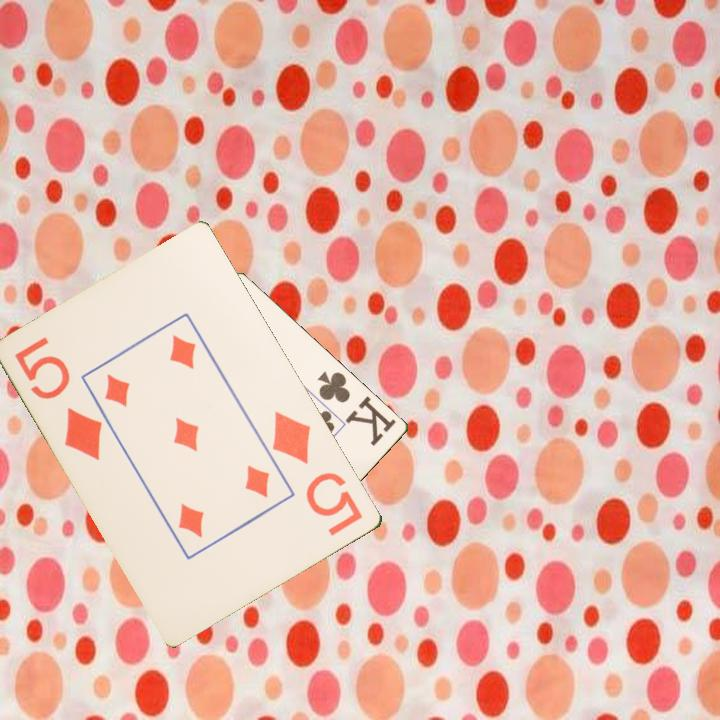5d: (269, 407, 366, 539), (11, 333, 106, 464)
Kc: (314, 367, 400, 449)
